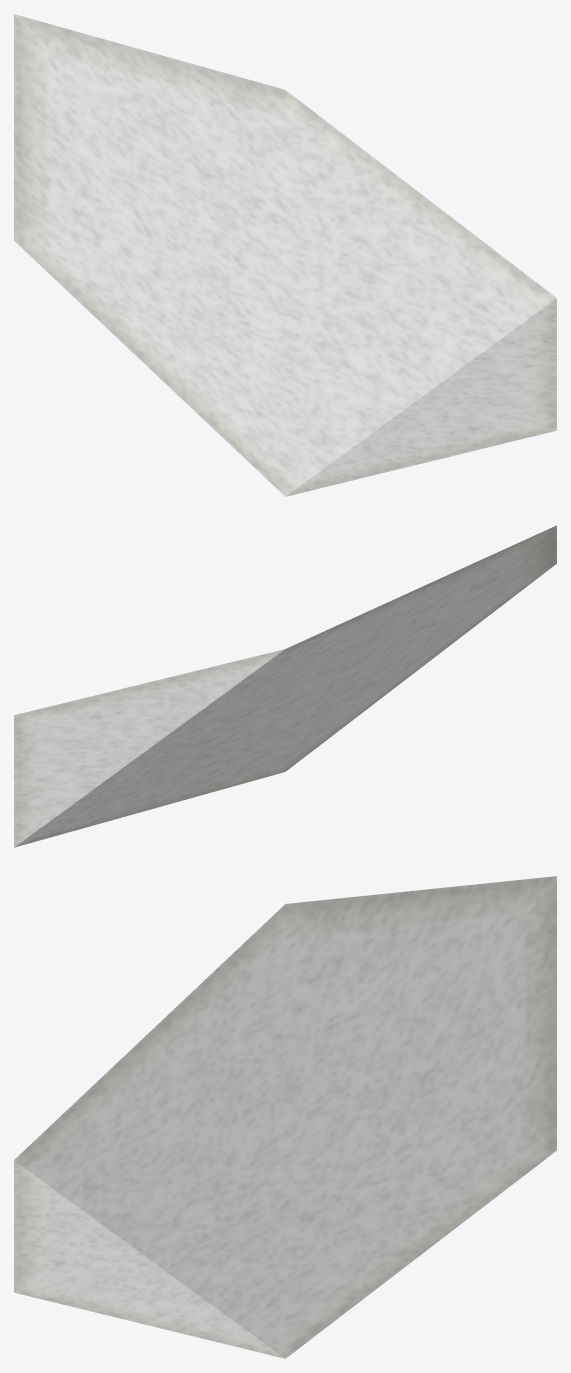
File: HexaTile_PBC_B.FBX
3 renders of one model, top to bottom at view 1: azimuth 30°, elevation 25°; view 2: azimuth 210°, elevation 25°; view 3: azimuth 270°, elevation 25°, orthographic.
Visible parts, largest first — view 1: HexaTile_PBC_B; view 2: HexaTile_PBC_B; view 3: HexaTile_PBC_B.
Boxes of the visible parts, x1,y1,x2,y2 form: HexaTile_PBC_B: [14, 14, 556, 496]; HexaTile_PBC_B: [14, 525, 556, 847]; HexaTile_PBC_B: [14, 876, 556, 1358].
Size of the model in its own units: 1 by 0.5 by 0.866.
